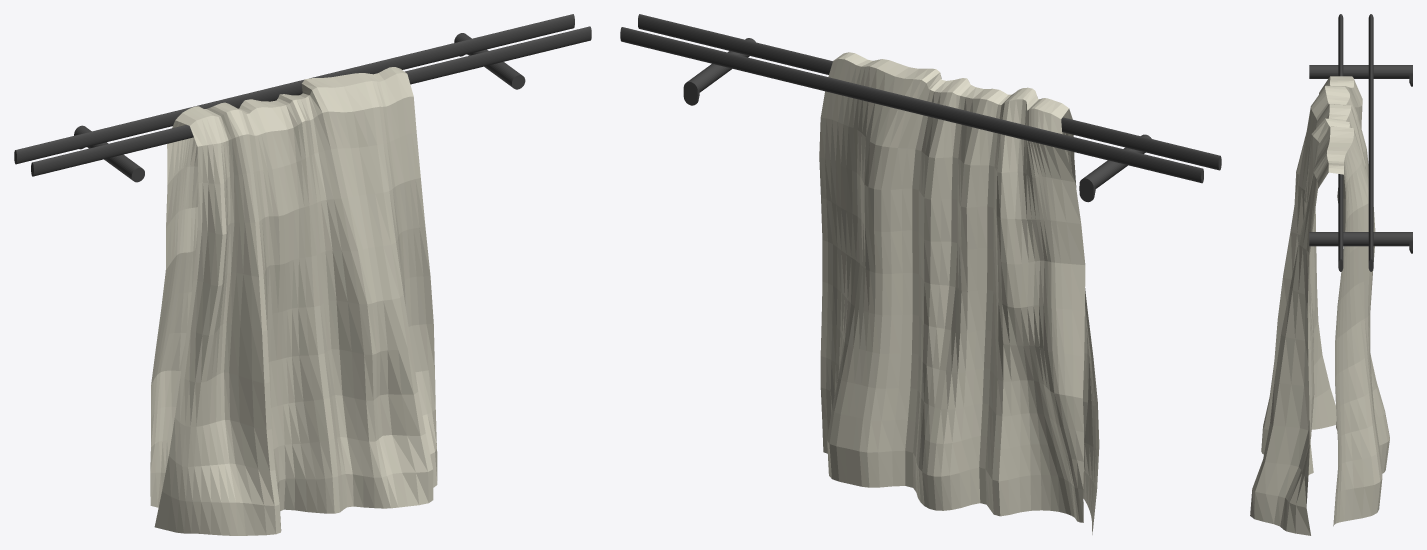
File: com_bath3.obj
3 views of the same model, side by side, from view 1: azimuth 30°, elevation 25°; view 2: azimuth 150°, elevation 25°; view 3: azimuth 270°, elevation 25° (orthographic). The views are drawn at different scales.
Parts seen in each view (by area): view 1: A_toalla_blanc_Mesh, A_estanteria_metal_Cylinder.003; view 2: A_toalla_blanc_Mesh, A_estanteria_metal_Cylinder.003; view 3: A_toalla_blanc_Mesh, A_estanteria_metal_Cylinder.003.
Part boxes in pixels (x1,y1,x2,y2): A_toalla_blanc_Mesh: (150, 67, 437, 535); A_estanteria_metal_Cylinder.003: (14, 14, 591, 182); A_toalla_blanc_Mesh: (819, 52, 1099, 534); A_estanteria_metal_Cylinder.003: (620, 14, 1221, 202); A_toalla_blanc_Mesh: (1250, 76, 1389, 535); A_estanteria_metal_Cylinder.003: (1309, 14, 1412, 271).
Size of the model in its own units: 2.98 by 2.08 by 0.8357.
